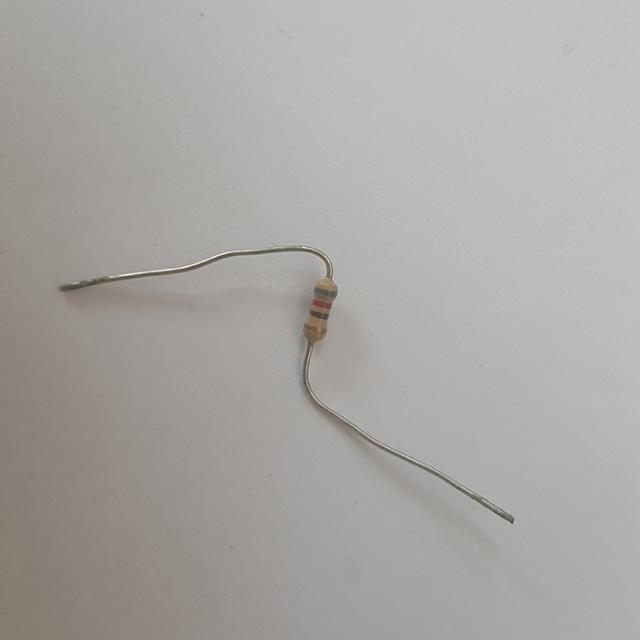brown: (311, 311, 328, 319)
gold: (305, 324, 327, 332)
grey: (314, 288, 337, 297)
red: (313, 299, 332, 308)
resistor: (307, 270, 345, 348)
